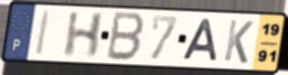7: (149, 14, 179, 63)
A: (180, 18, 219, 63)
B: (104, 9, 147, 63)
H: (61, 11, 107, 59)
I: (33, 9, 52, 58)
K: (222, 18, 255, 66)
